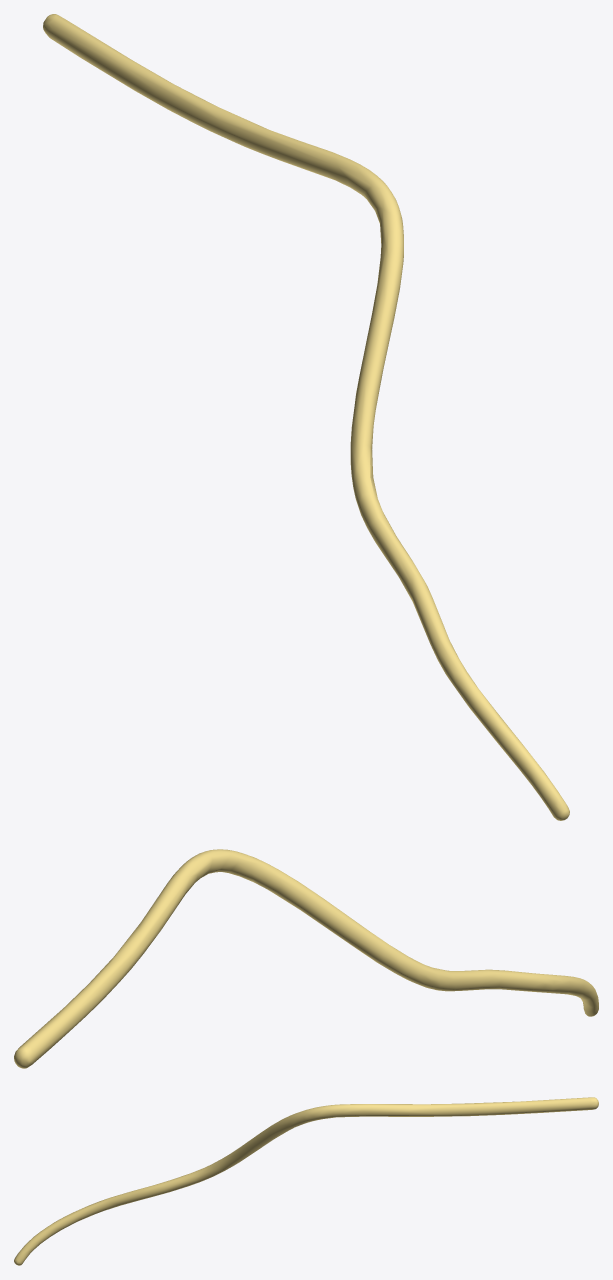
The model's file is fma80594_fj3988.glb.
3 views of the same model, one above another, from view 1: azimuth 30°, elevation 25°; view 2: azimuth 150°, elevation 25°; view 3: azimuth 270°, elevation 25° (orthographic). The views are drawn at different scales.
Parts seen in each view (by area): view 1: FMA80594_FJ3988; view 2: FMA80594_FJ3988; view 3: FMA80594_FJ3988.
Part boxes in pixels (<box>): FMA80594_FJ3988: <box>43,14,569,820</box>; FMA80594_FJ3988: <box>14,849,598,1068</box>; FMA80594_FJ3988: <box>14,1097,598,1265</box>.
Size of the model in its own units: 0.0137 by 0.0289 by 0.0799.
